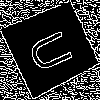U: (26, 23, 83, 76)
